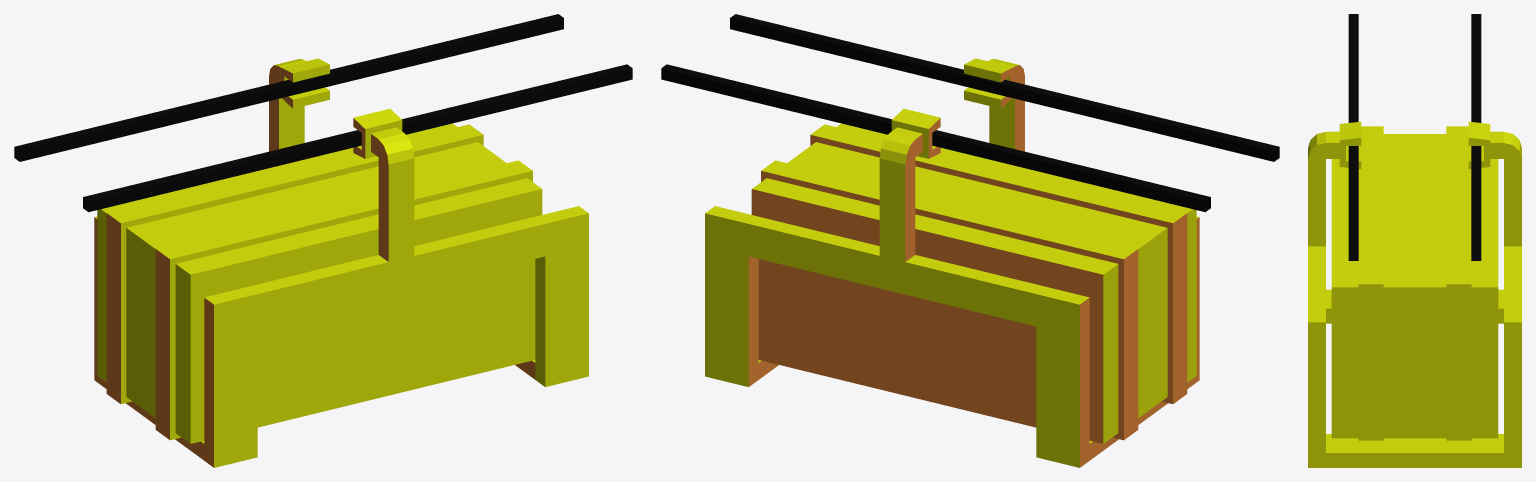
The model's file is Mechanical_Rail_T2_OnRail.fbx.
The picture shows the model from 3 angles, left to right: view 1: azimuth 30°, elevation 25°; view 2: azimuth 150°, elevation 25°; view 3: azimuth 270°, elevation 25°; orthographic projection. The views are drawn at different scales.
Visible parts, largest first — view 1: Mechanical_Rail_T2_OnRail; view 2: Mechanical_Rail_T2_OnRail; view 3: Mechanical_Rail_T2_OnRail.
Boxes of the visible parts, left/top/right/bottom form: Mechanical_Rail_T2_OnRail: left=14, top=14, right=632, bottom=467; Mechanical_Rail_T2_OnRail: left=661, top=14, right=1279, bottom=467; Mechanical_Rail_T2_OnRail: left=1308, top=14, right=1521, bottom=467.
Bounding box in the file's own units: 2.9 × 1.11 × 1.46.
